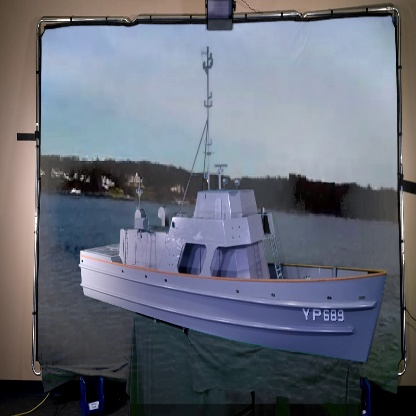YP689: (82, 44, 387, 365)
